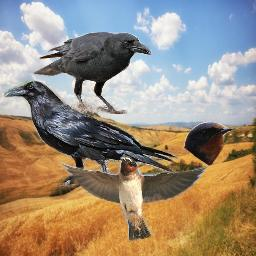Crow: (4, 80, 185, 191), (33, 32, 152, 114)
Swallow: (56, 156, 210, 242), (183, 121, 235, 166)
